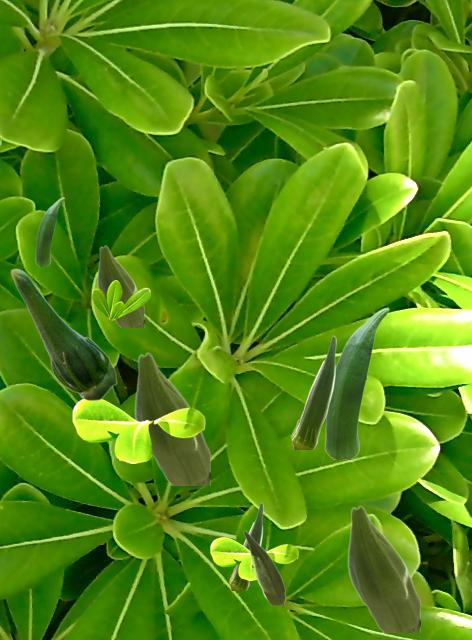okra: (10, 268, 116, 400), (134, 352, 209, 484), (324, 307, 388, 458), (347, 505, 419, 631), (291, 335, 335, 448), (97, 245, 143, 326), (243, 530, 284, 604), (229, 502, 262, 589), (35, 197, 63, 265)
